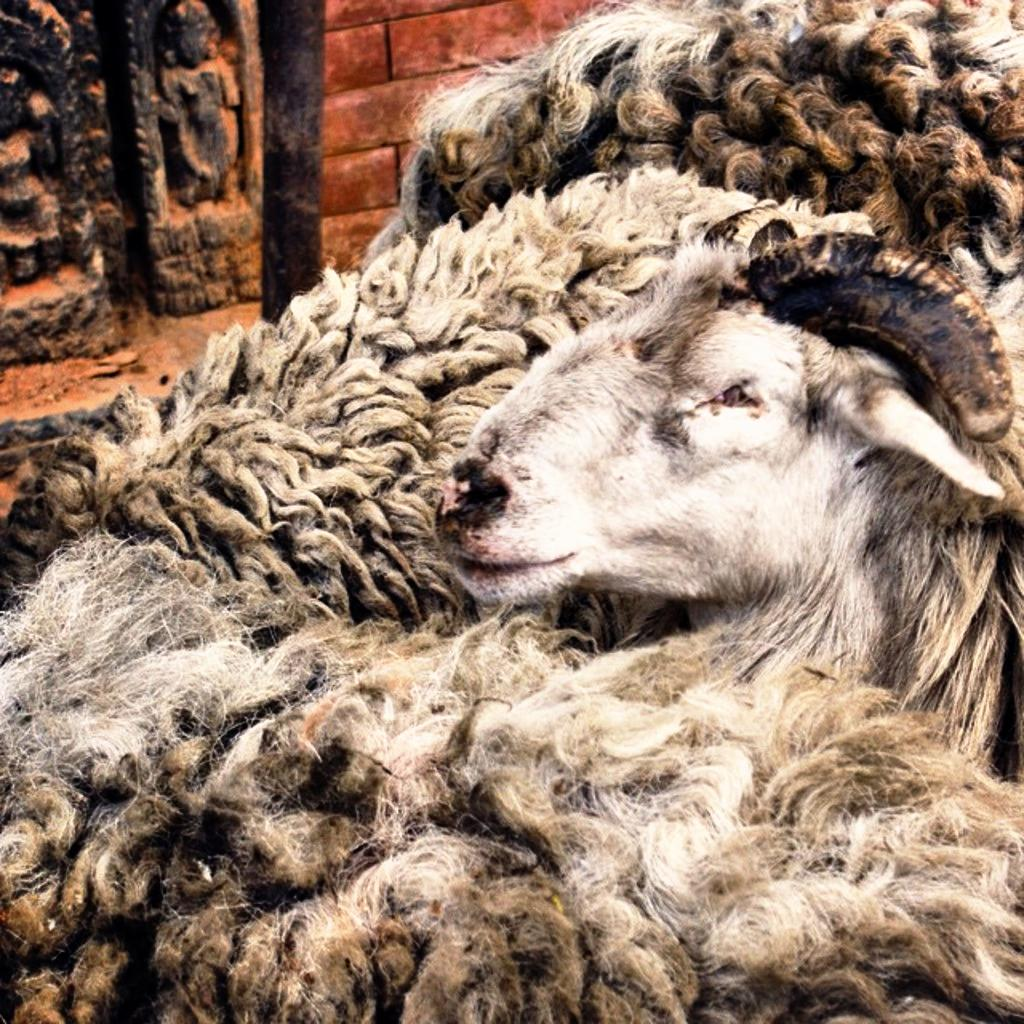Sheep: (0, 165, 1022, 651), (0, 540, 1022, 1022), (436, 214, 1022, 790), (356, 0, 1022, 378)
